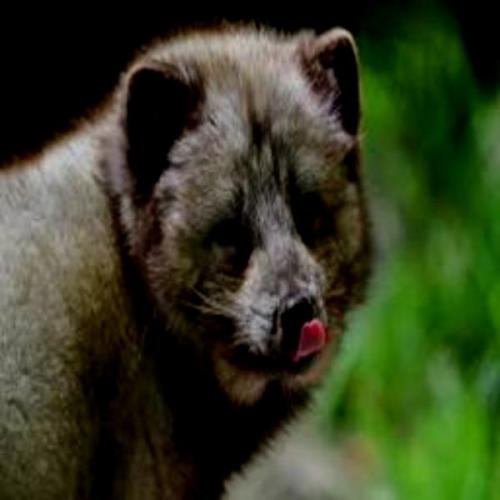arctic_fox-endangered: (0, 22, 378, 500)
